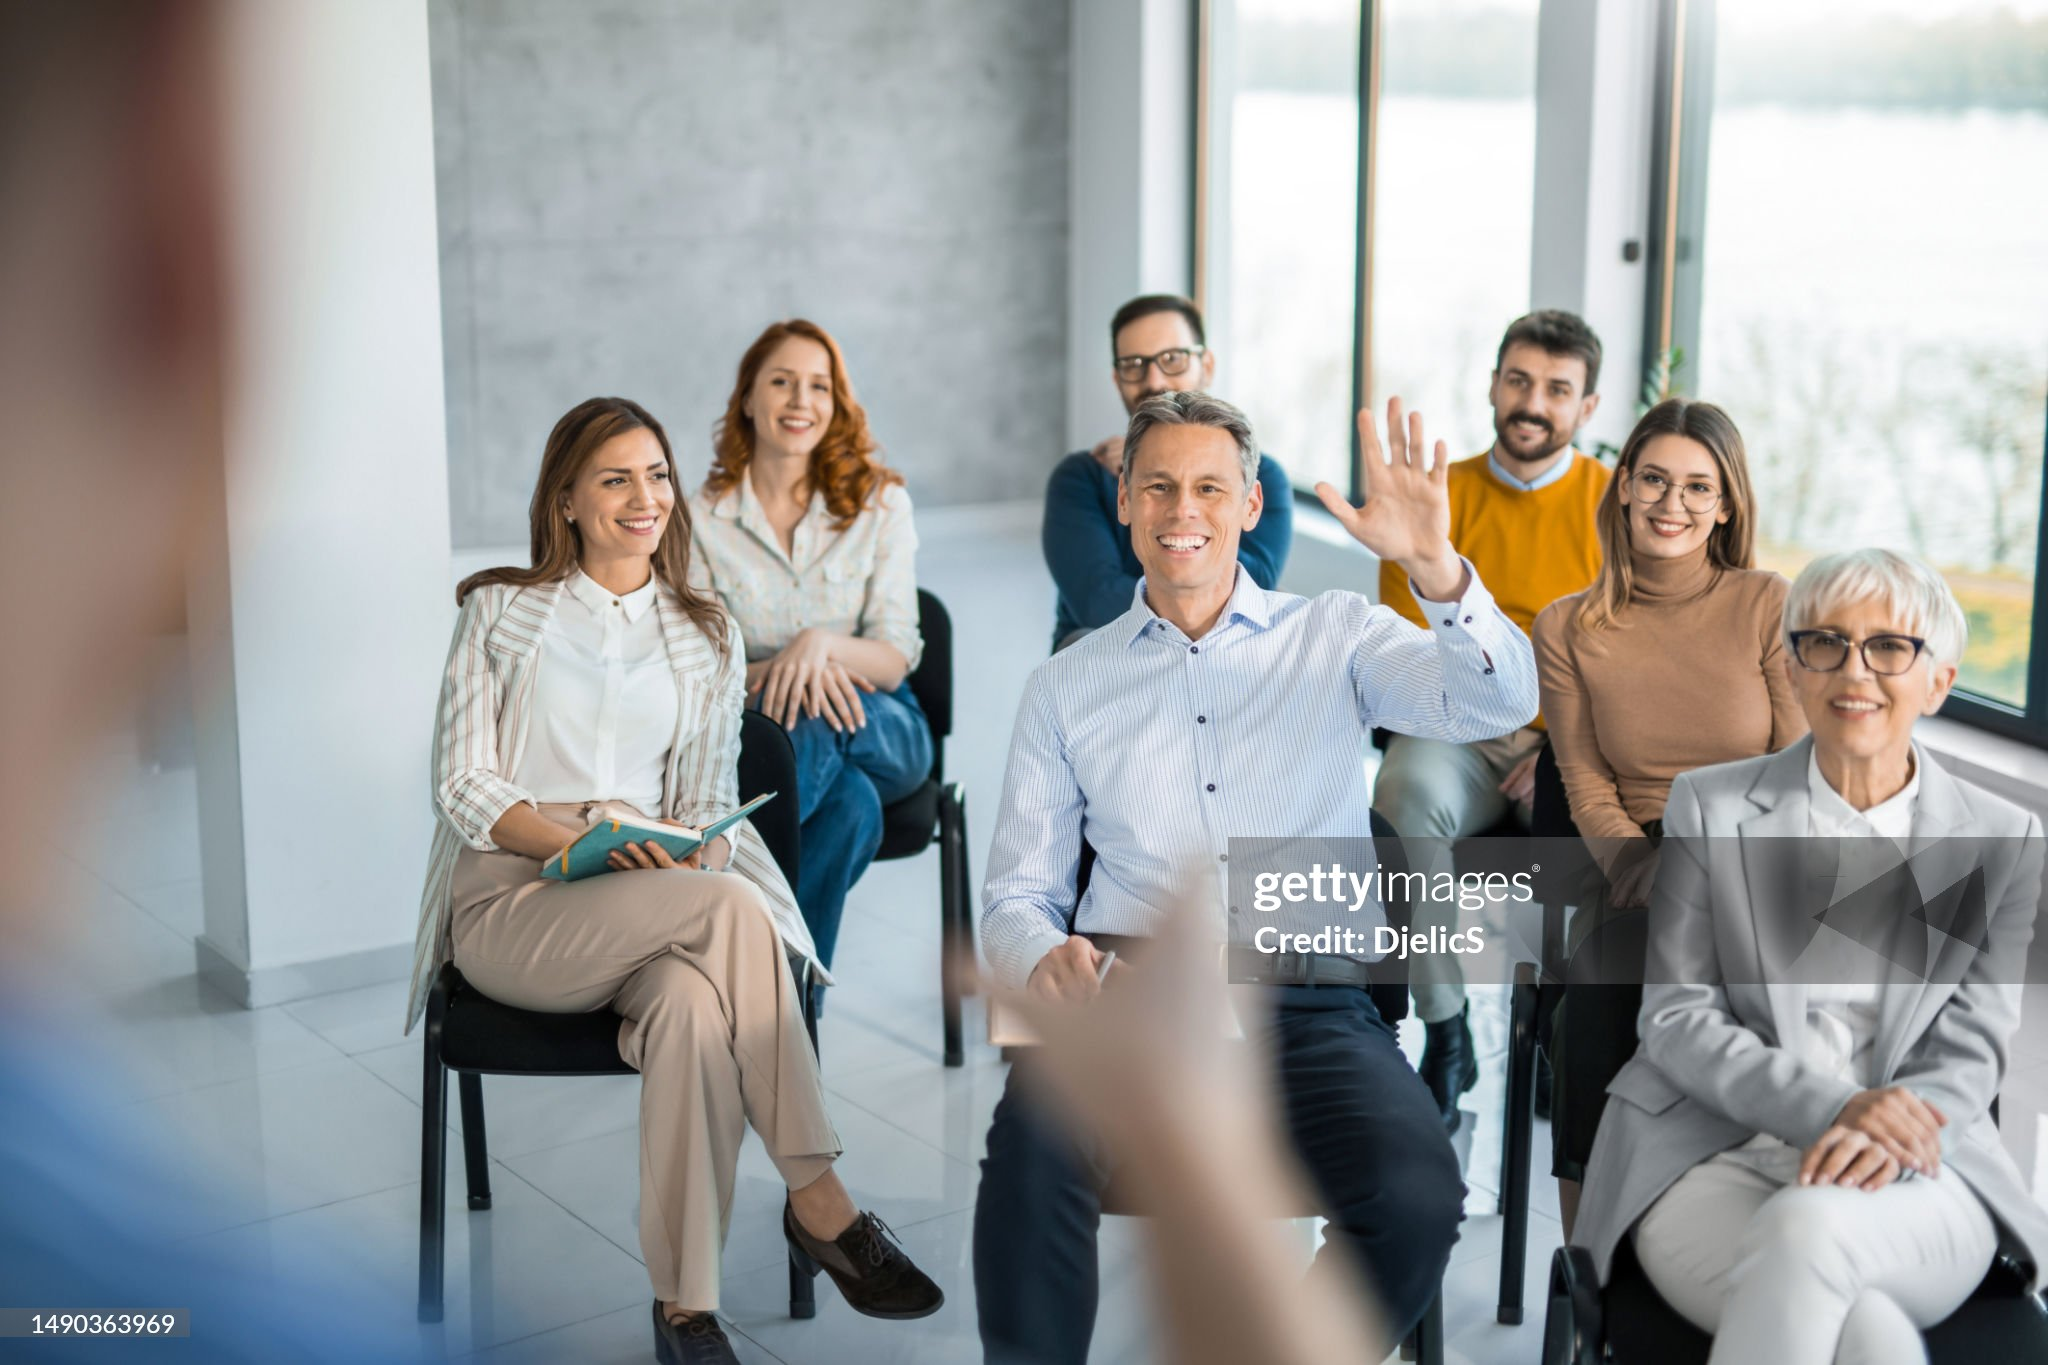entre15-30-porcento: (416, 283, 2043, 1292)
